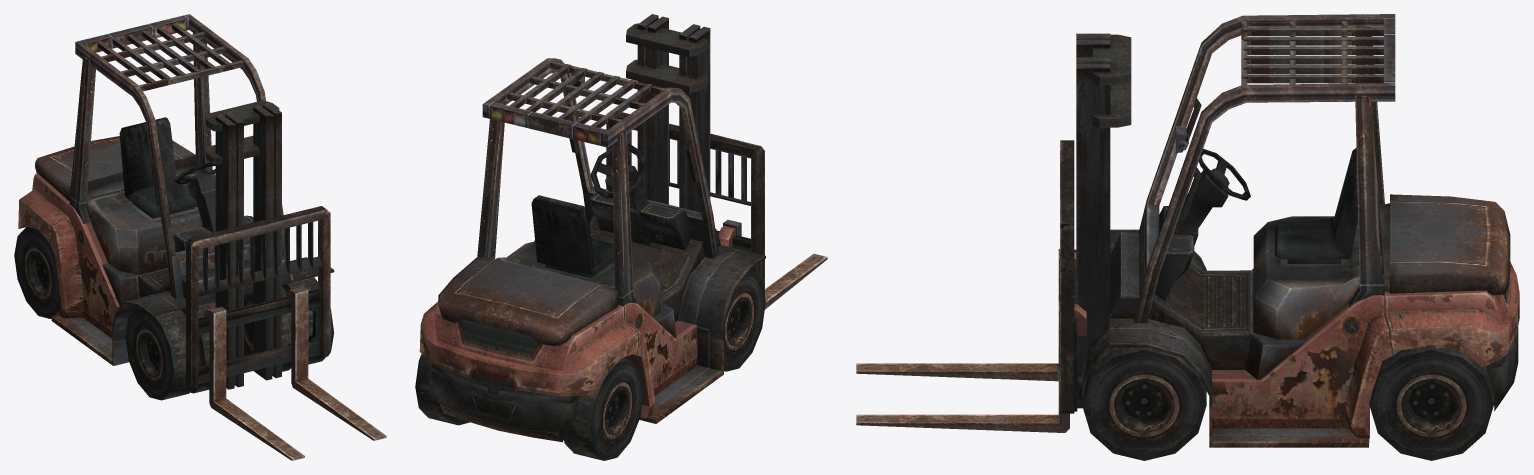
The model's file is Prop_Forklift.glb.
3 views of the same model, side by side, from view 1: azimuth 30°, elevation 25°; view 2: azimuth 150°, elevation 25°; view 3: azimuth 270°, elevation 25° (orthographic). The views are drawn at different scales.
Parts seen in each view (by area): view 1: xiutz_chache; view 2: xiutz_chache; view 3: xiutz_chache.
Part boxes in pixels (box(x1,y1,x2,y2)): xiutz_chache: box(14, 14, 386, 460); xiutz_chache: box(415, 14, 827, 460); xiutz_chache: box(856, 14, 1519, 460).
Size of the model in its own units: 2.36 by 3.46 by 5.75.
Materials: 1 (1 with a texture image).
